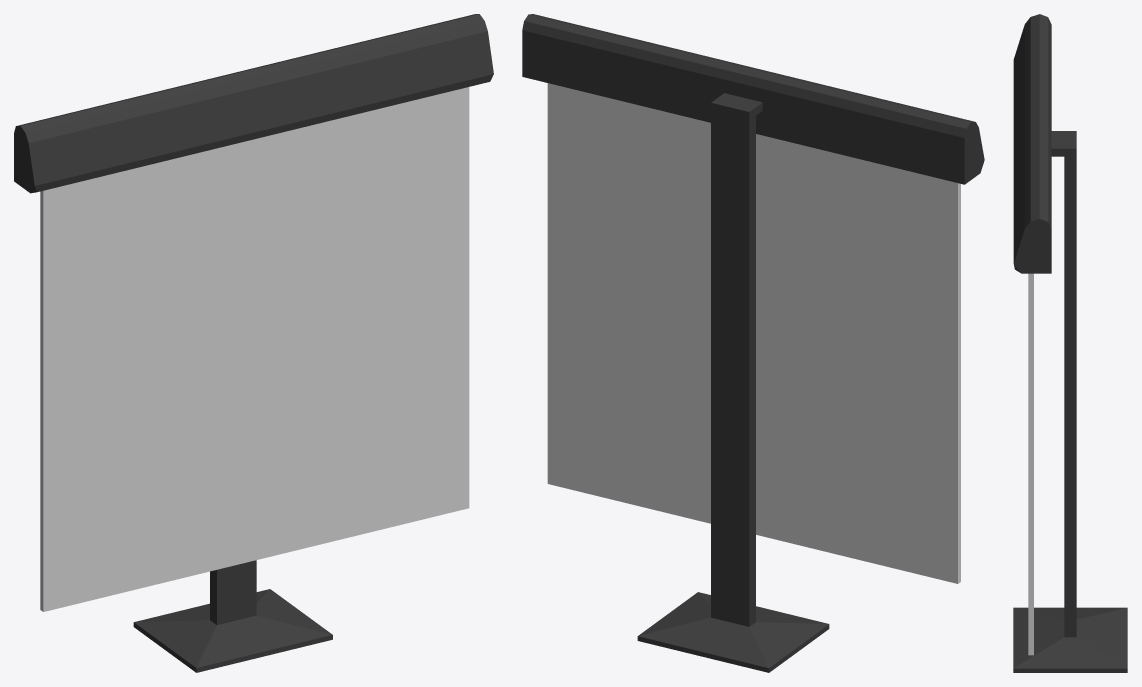
File: ProjectorScreenV2.fbx
The picture shows the model from 3 angles, left to right: view 1: azimuth 30°, elevation 25°; view 2: azimuth 150°, elevation 25°; view 3: azimuth 270°, elevation 25°; orthographic projection. The views are drawn at different scales.
Visible parts, largest first — view 1: ProjectorScreenV2_Cloth, ProjectorScreenV2; view 2: ProjectorScreenV2_Cloth, ProjectorScreenV2; view 3: ProjectorScreenV2, ProjectorScreenV2_Cloth.
Part boxes in pixels (x1,y1,x2,y2): ProjectorScreenV2_Cloth: [40, 87, 469, 611]; ProjectorScreenV2: [14, 14, 493, 672]; ProjectorScreenV2_Cloth: [547, 83, 960, 583]; ProjectorScreenV2: [522, 14, 984, 672]; ProjectorScreenV2: [1013, 14, 1127, 672]; ProjectorScreenV2_Cloth: [1028, 273, 1033, 655].
Size of the model in its own units: 160 by 192 by 37.82.
